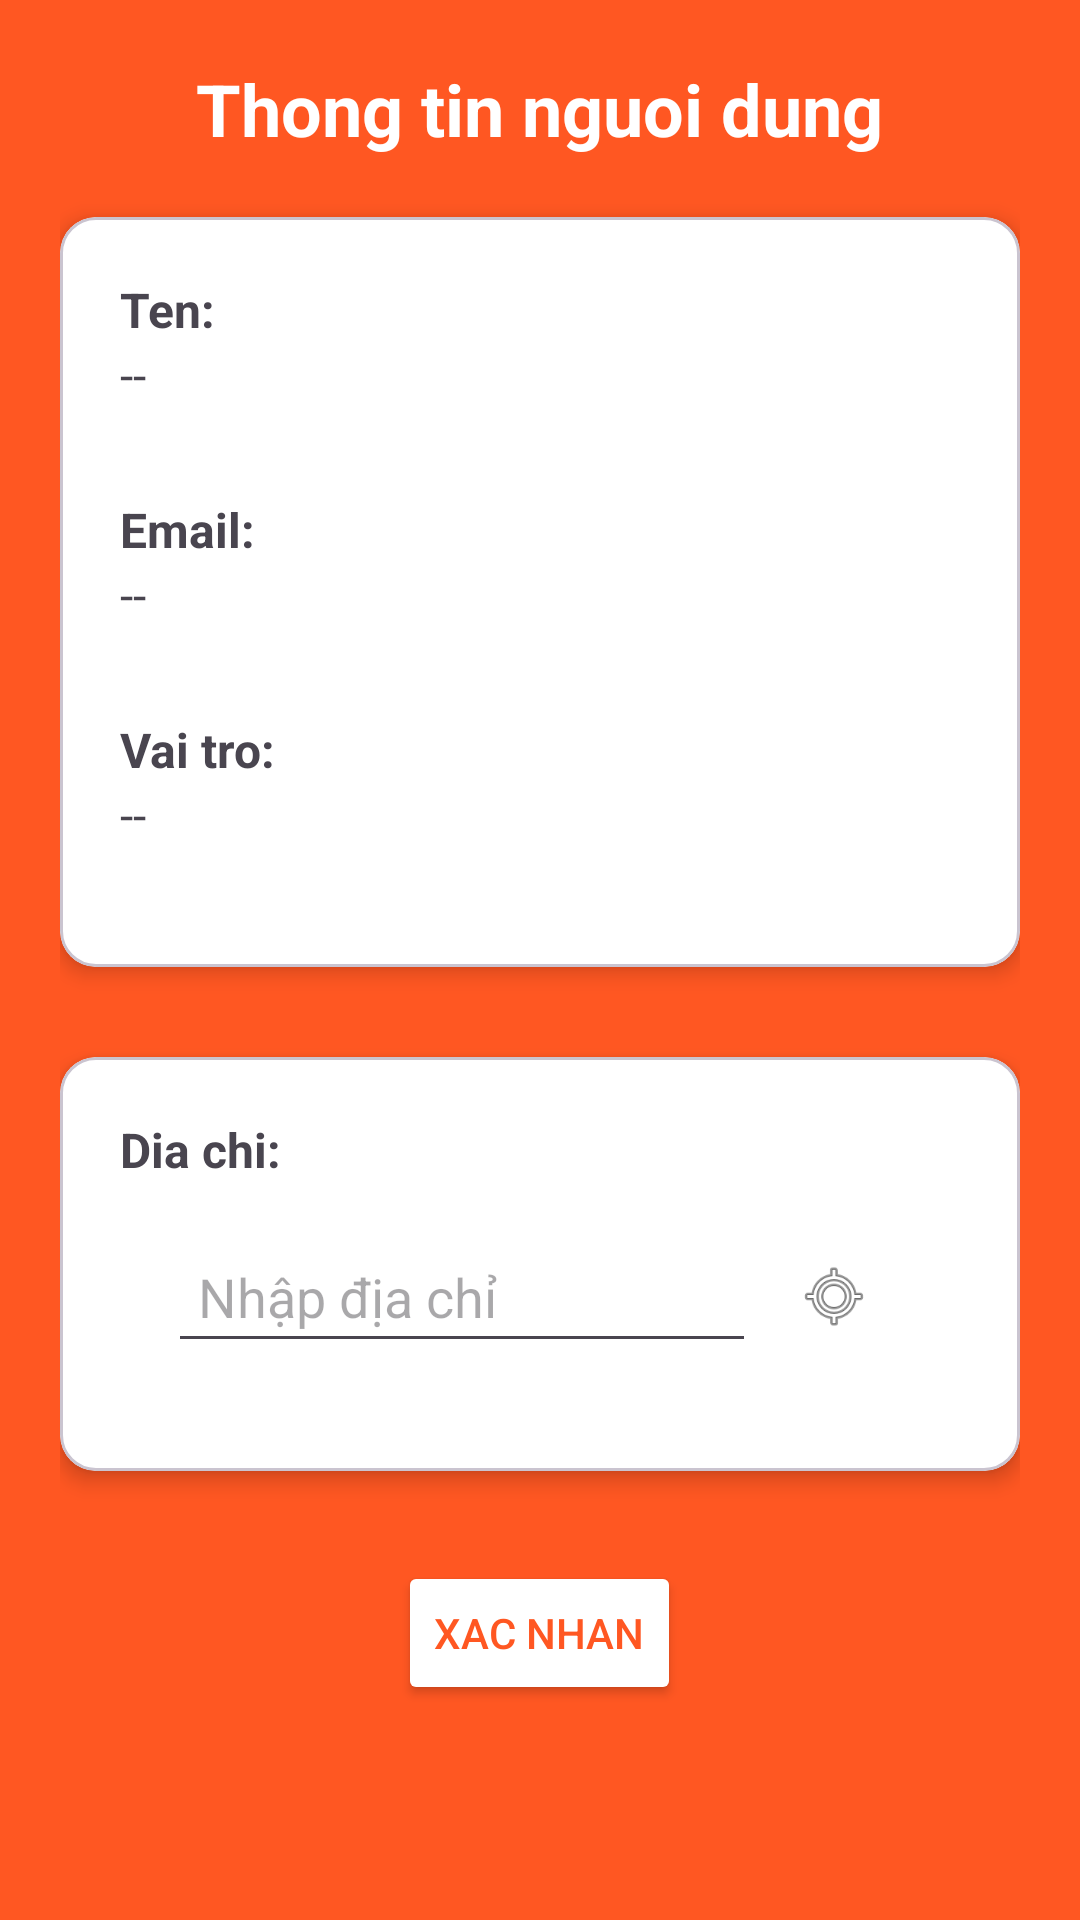

Named icons in this screenshot (1080 x 1920) and their centers, (x,y):
Chọn Đia Chỉ: (834,1296)
